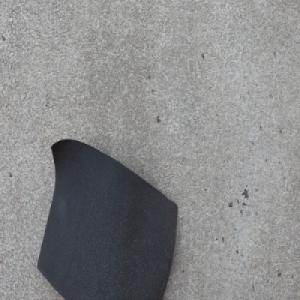PaintChip: (36, 138, 178, 300)
